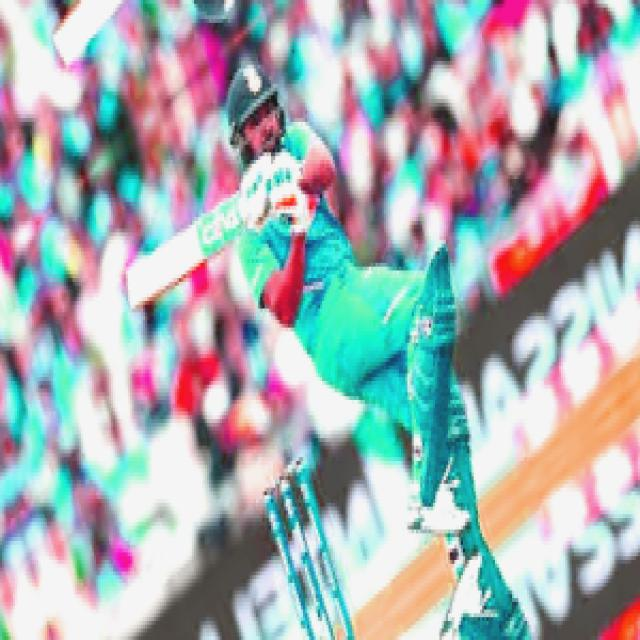toe: (122, 235, 170, 326)
